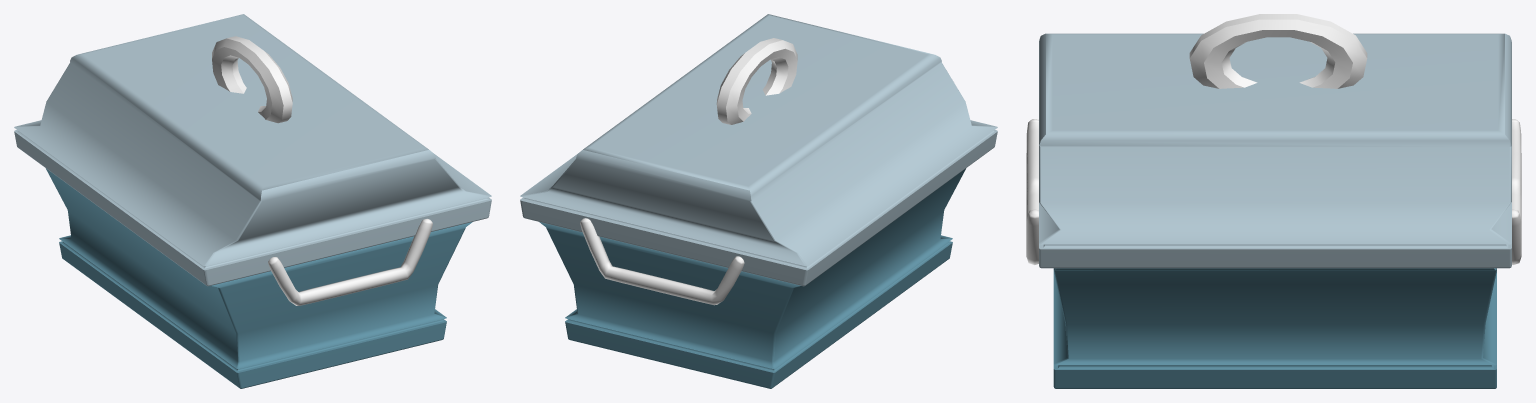
File: Tacklebox.fbx
3 renders of one model, left to right at view 1: azimuth 30°, elevation 25°; view 2: azimuth 150°, elevation 25°; view 3: azimuth 270°, elevation 25°, orthographic. The views are drawn at different scales.
Visible parts, largest first — view 1: pCube24, pCube23, pTorus2, pCube25; view 2: pCube24, pCube23, pTorus2, pCube26; view 3: pCube24, pCube23, pTorus2, pCube25, pCube26.
Boxes of the visible parts, x1,y1,x2,y2 form: pCube24: (14,14,491,286); pCube23: (46,168,472,388); pTorus2: (212,36,292,123); pCube25: (268,218,432,305); pCube24: (520,14,997,286); pCube23: (539,168,965,388); pTorus2: (716,38,797,124); pCube26: (580,218,744,305); pCube24: (1039,33,1511,268); pCube23: (1053,268,1496,388); pTorus2: (1189,14,1367,88); pCube25: (1026,119,1038,264); pCube26: (1512,119,1521,264).
Size of the model in its own units: 58.08 by 48.46 by 69.77.
